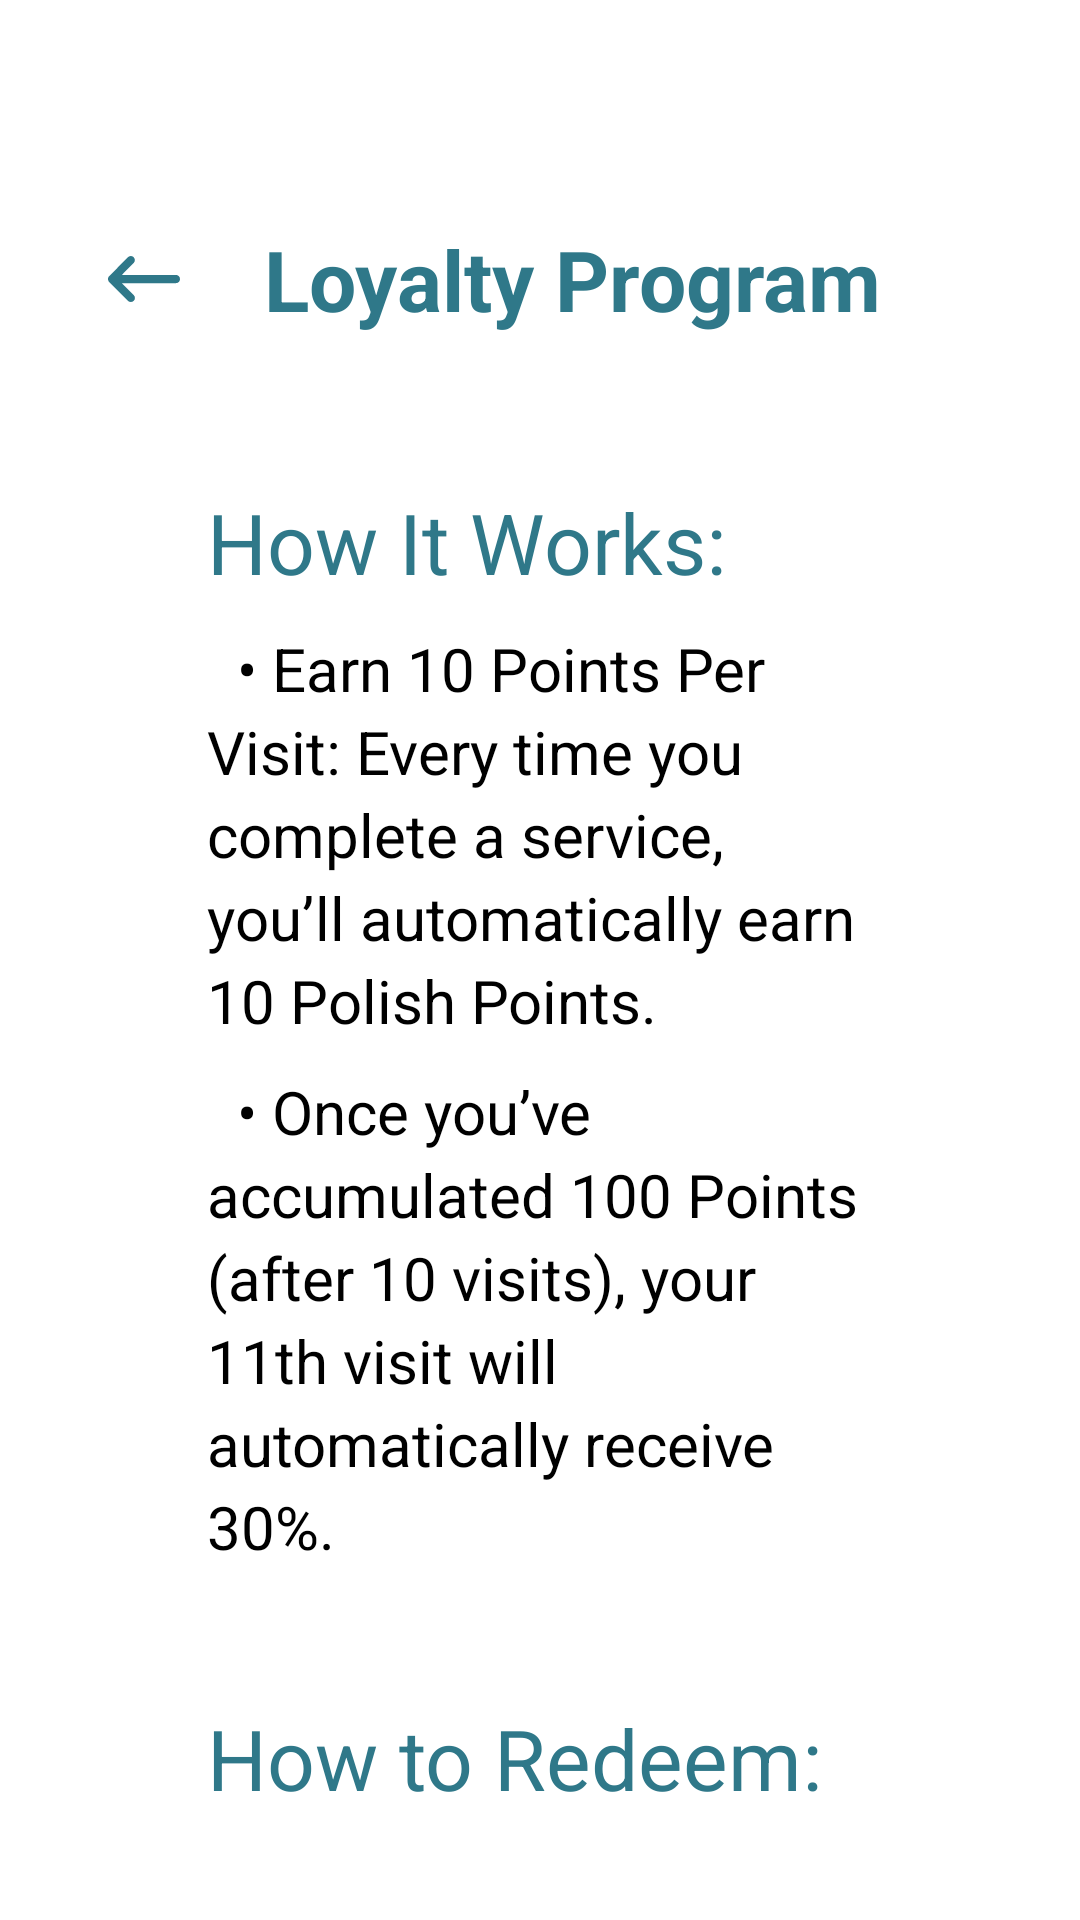

Point at icon controls on the screen. Image size 1080 x 1920, points as [x,y].
back arrorw: [144,279]
